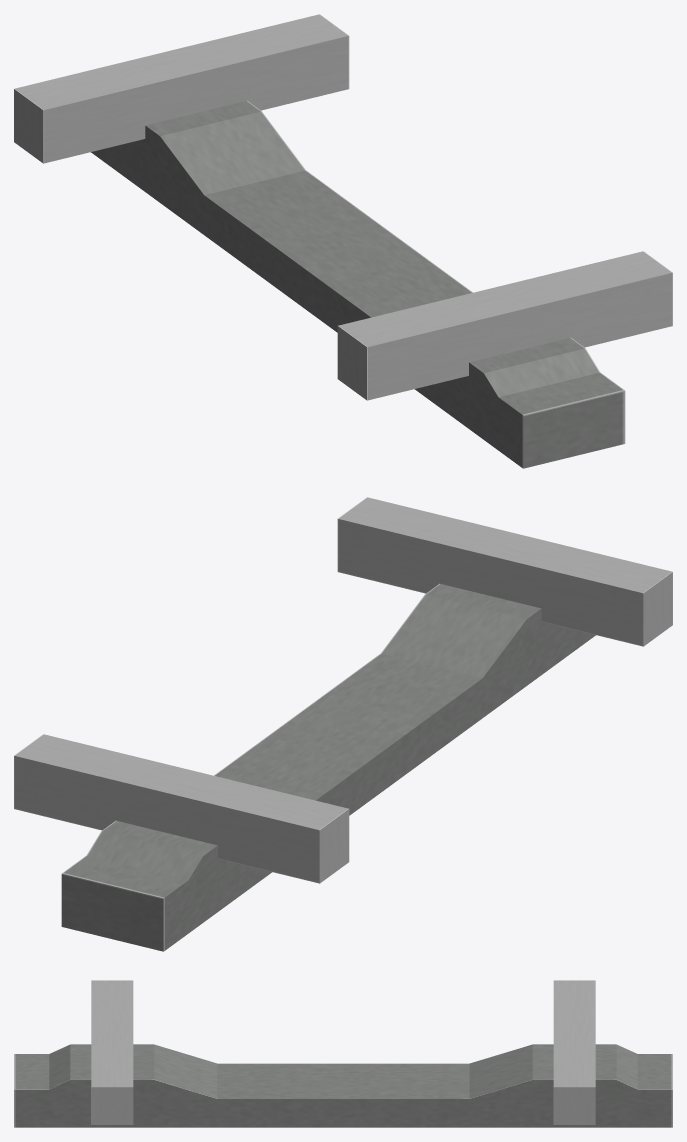
Rendered from rail_curved.obj.
3 views of the same model, one above another, from view 1: azimuth 30°, elevation 25°; view 2: azimuth 150°, elevation 25°; view 3: azimuth 270°, elevation 25° (orthographic). The views are drawn at different scales.
Parts seen in each view (by area): view 1: b4, r1, r2; view 2: b4, r2, r1; view 3: b4, r1, r2.
Part boxes in pixels (x1=…): b4: x1=91, y1=100, x2=625, y2=468; r1: x1=14, y1=14, x2=349, y2=163; r2: x1=337, y1=251, x2=672, y2=400; b4: x1=61, y1=583, x2=595, y2=951; r2: x1=337, y1=497, x2=672, y2=646; r1: x1=14, y1=734, x2=349, y2=883; b4: x1=14, y1=1044, x2=672, y2=1127; r1: x1=553, y1=980, x2=595, y2=1124; r2: x1=91, y1=980, x2=133, y2=1124.
Size of the model in its own units: 0.375 by 0.125 by 0.98.
